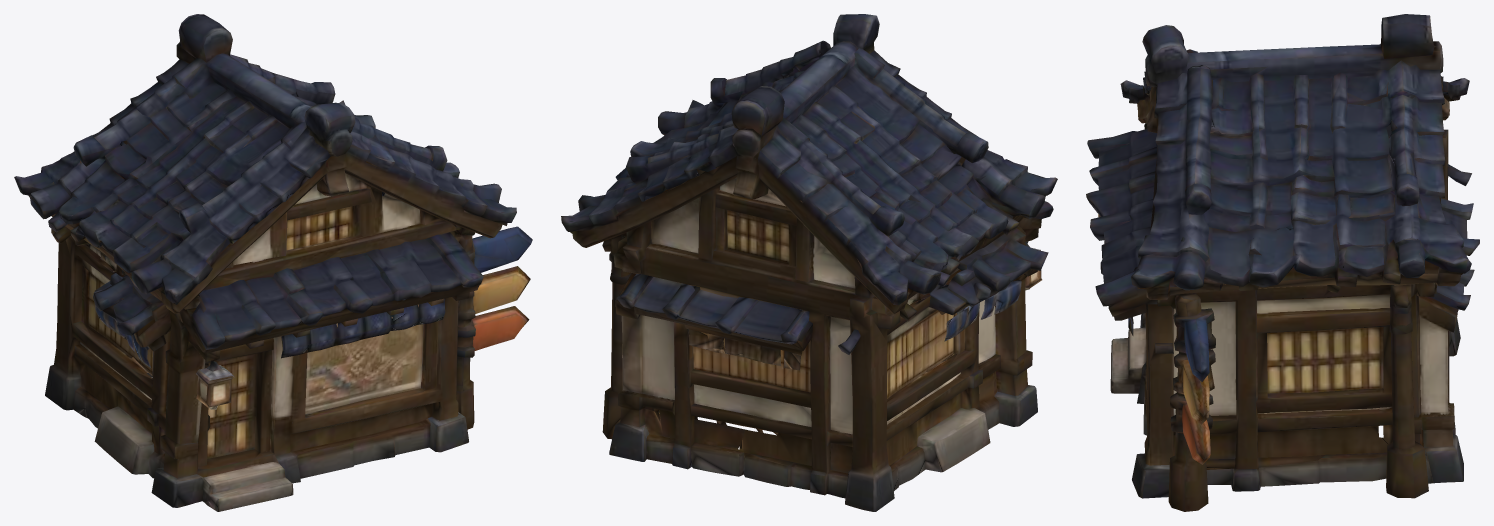
3 views of the same model, side by side, from view 1: azimuth 30°, elevation 25°; view 2: azimuth 150°, elevation 25°; view 3: azimuth 270°, elevation 25° (orthographic). The views are drawn at different scales.
Parts seen in each view (by area): view 1: compact__junction_hub__native_mobile; view 2: compact__junction_hub__native_mobile; view 3: compact__junction_hub__native_mobile.
Boxes of the visible parts, x1,y1,x2,y2 form: compact__junction_hub__native_mobile: (14, 14, 532, 511); compact__junction_hub__native_mobile: (561, 14, 1057, 511); compact__junction_hub__native_mobile: (1086, 14, 1479, 511).
Bounding box in the file's own units: 1 × 0.8429 × 0.7432.
Materials: 1 (1 with a texture image).
